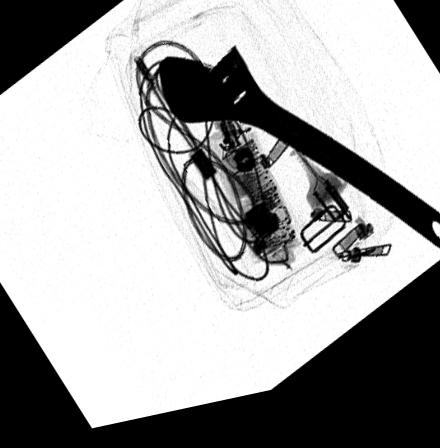Wrench: (153, 54, 440, 267)
